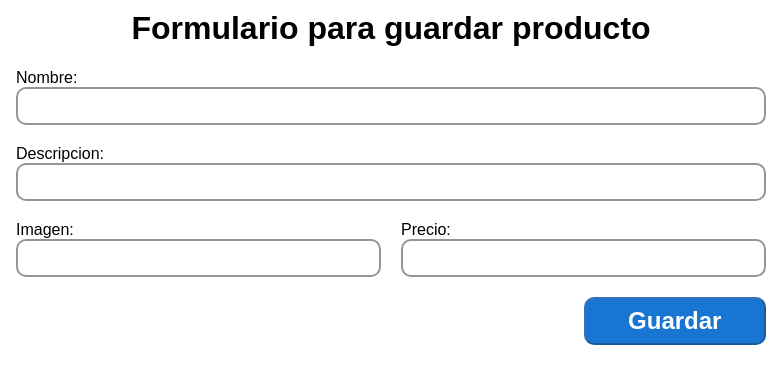
Test: Home › Should not allow type characters different to numbers in product's price
Type "123456" into the field labelled "Precio:". click: [584, 258]
box: [401,239,766,277]
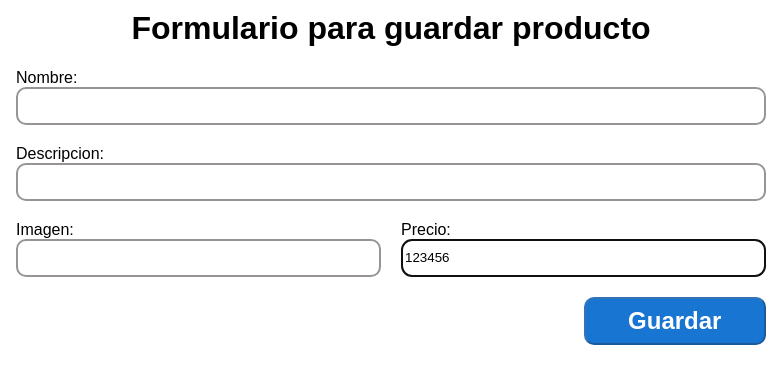
Type "abc" into the field labelled "Precio:". click: [584, 258]
box: [401,239,766,277]
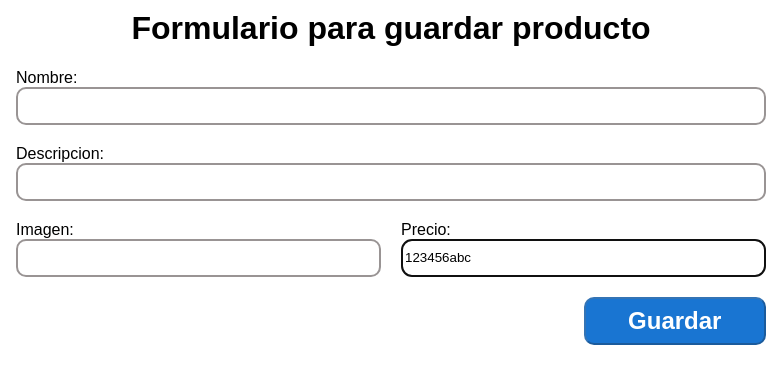
Press Tab
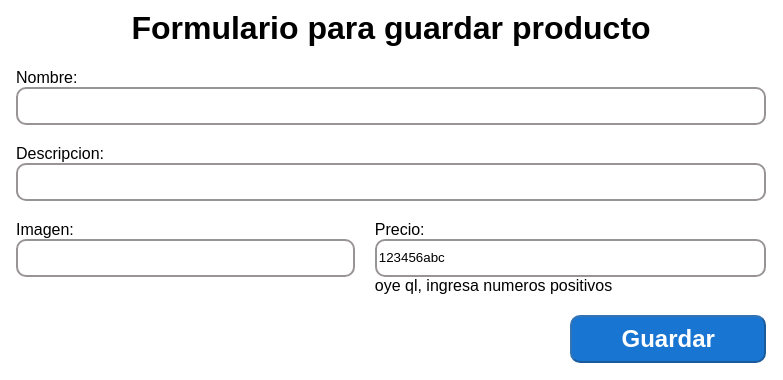
Expected: the text "oye ql, ingresa numeros positivos" is shown, [375,277,612,294]
